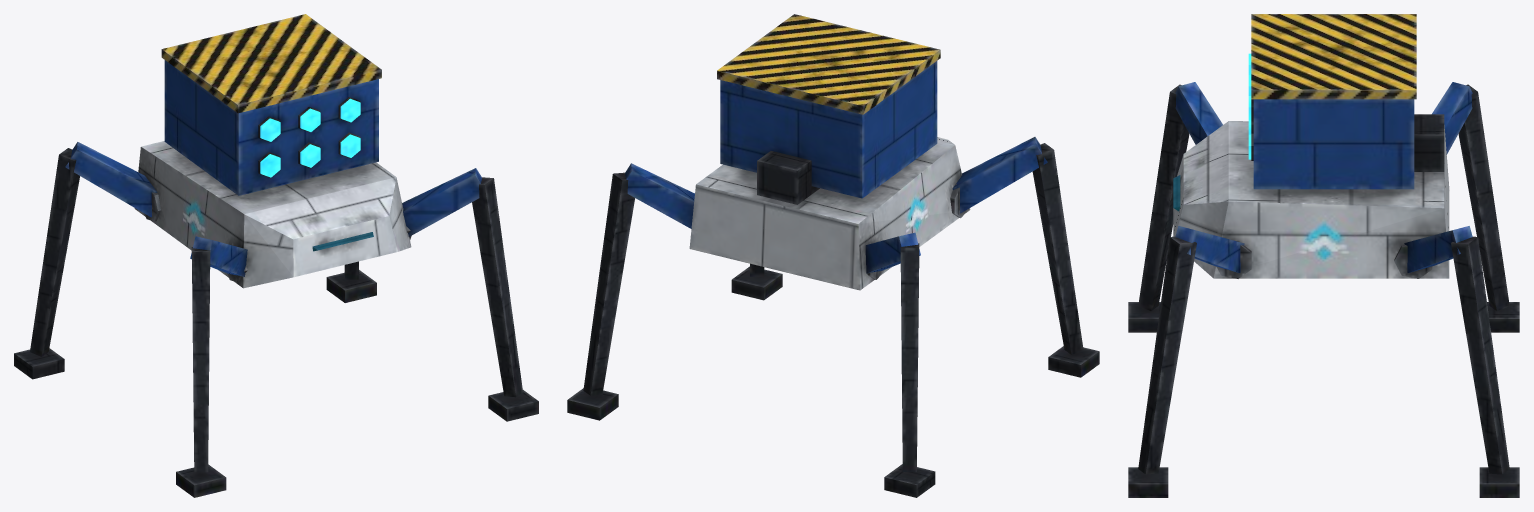
The model's file is u_havoc1_w.glb.
3 renders of one model, left to right at view 1: azimuth 30°, elevation 25°; view 2: azimuth 150°, elevation 25°; view 3: azimuth 270°, elevation 25°, orthographic. The views are drawn at different scales.
Parts seen in each view (by area): view 1: u_havoc1_w; view 2: u_havoc1_w; view 3: u_havoc1_w.
Boxes of the visible parts, x1,y1,x2,y2 form: u_havoc1_w: (14,14,538,497); u_havoc1_w: (567,14,1099,497); u_havoc1_w: (1128,14,1519,497).
Size of the model in its own units: 1.81 by 1.64 by 1.64.
Materials: 1 (1 with a texture image).
